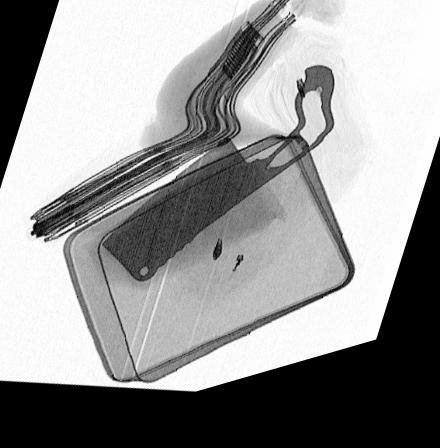Knife: (99, 81, 336, 289)
